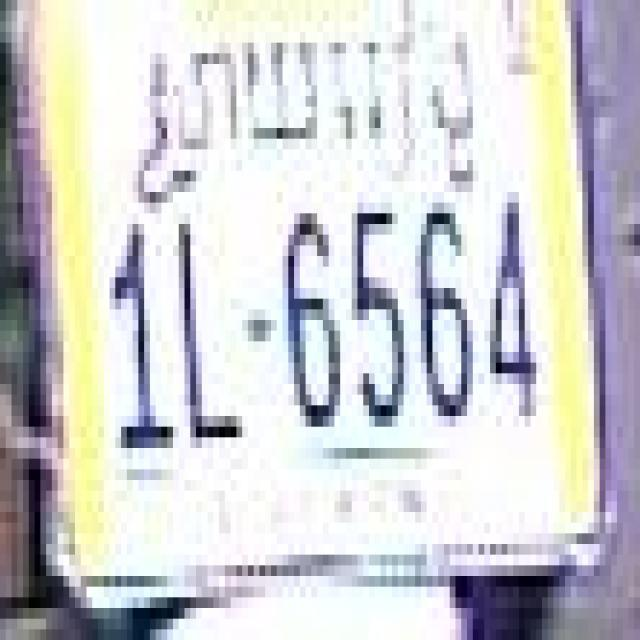Svay_Rieng: (139, 0, 474, 192)
